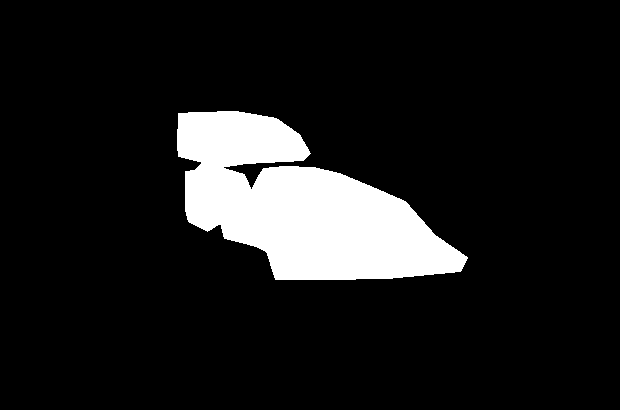type2: (171, 108, 470, 281)
